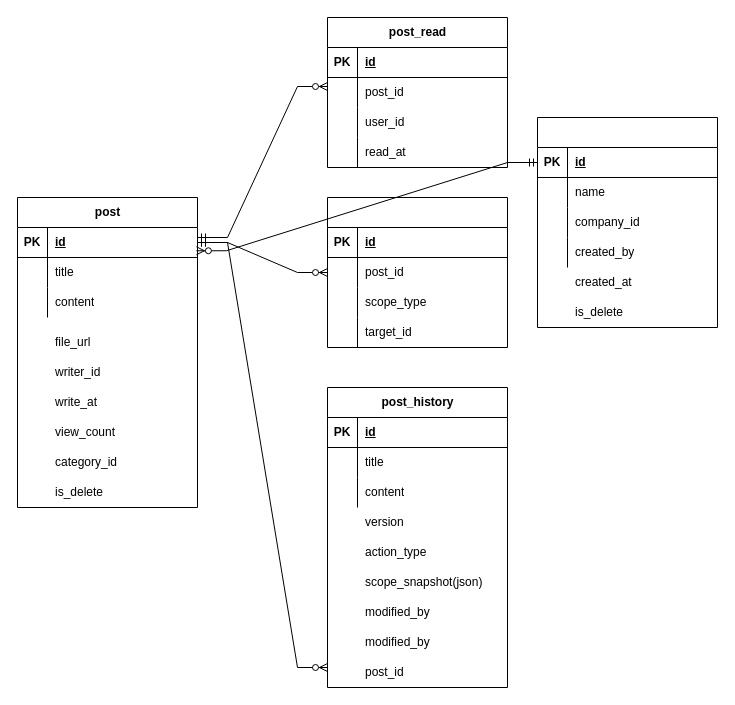
Image size: 735x705. Some labels were removed from this diagram. The shapes that lost their labels are listed below. From the top down, each one's box as (x1, y1, x2, y2) in pixels, then its label:
(536, 116, 718, 328): category
(326, 196, 508, 348): post_scope
